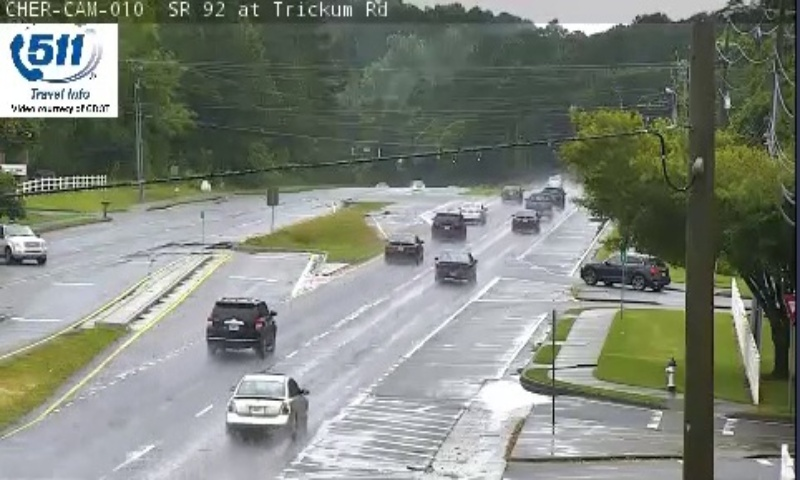car: (227, 373, 305, 431), (207, 297, 277, 348), (435, 250, 475, 281), (385, 234, 421, 261), (431, 212, 464, 240), (526, 193, 551, 218), (459, 202, 486, 223), (511, 211, 537, 230), (501, 185, 521, 200)
